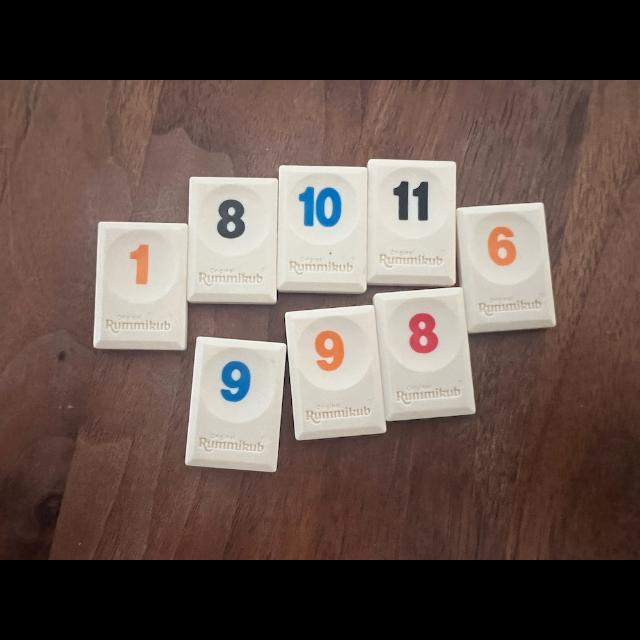black_11: (368, 159, 456, 286)
black_8: (188, 178, 278, 304)
blue_10: (278, 165, 368, 294)
blue_9: (185, 338, 286, 472)
orange_1: (94, 222, 188, 350)
orange_6: (456, 202, 556, 332)
orange_9: (285, 305, 386, 440)
red_8: (374, 288, 475, 421)
